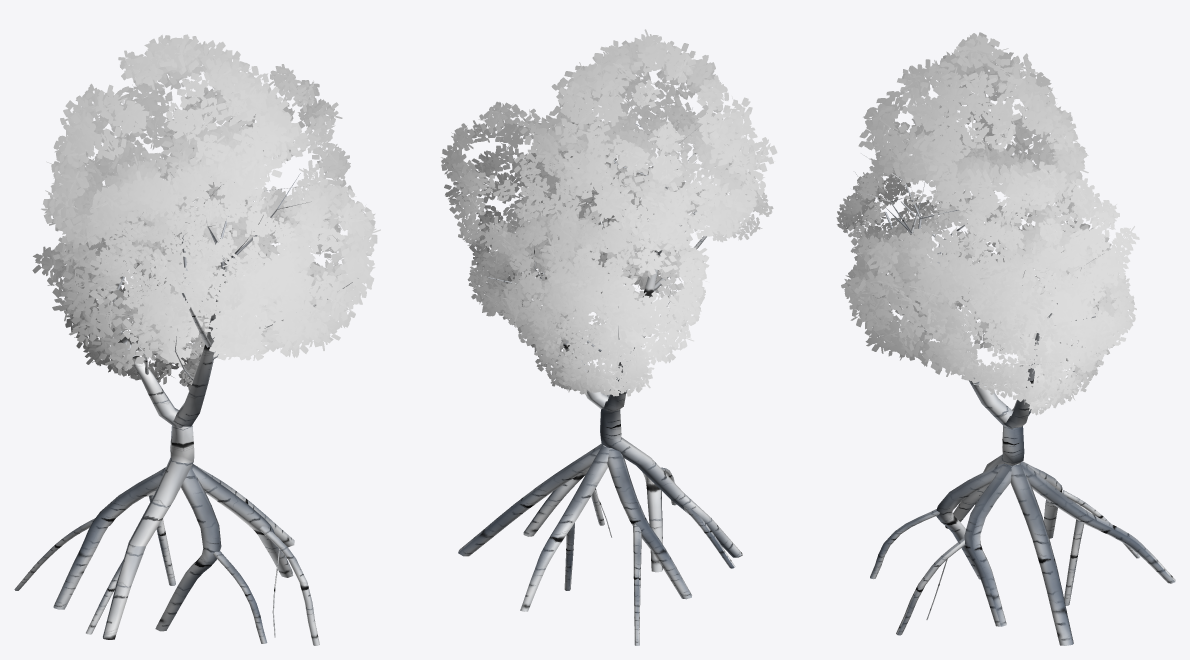
The model's file is Sacred_Tree.fbx.
The picture shows the model from 3 angles, left to right: view 1: azimuth 30°, elevation 25°; view 2: azimuth 150°, elevation 25°; view 3: azimuth 270°, elevation 25°; orthographic projection. The views are drawn at different scales.
Parts seen in each view (by area): view 1: Leaves, Trunk; view 2: Leaves, Trunk; view 3: Leaves, Trunk.
Part boxes in pixels (x1,y1,x2,y2): Leaves: (32,34,380,390); Trunk: (14,172,358,645); Leaves: (441,29,777,396); Trunk: (458,104,742,645); Leaves: (836,32,1139,415); Trunk: (850,129,1175,645).
Size of the model in its own units: 806 by 1335 by 749.
2 materials, 1 textured.
